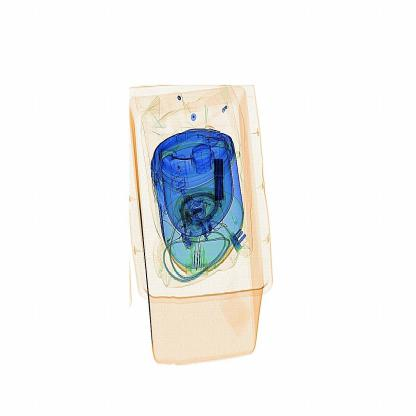scissors: (207, 151, 234, 207)
